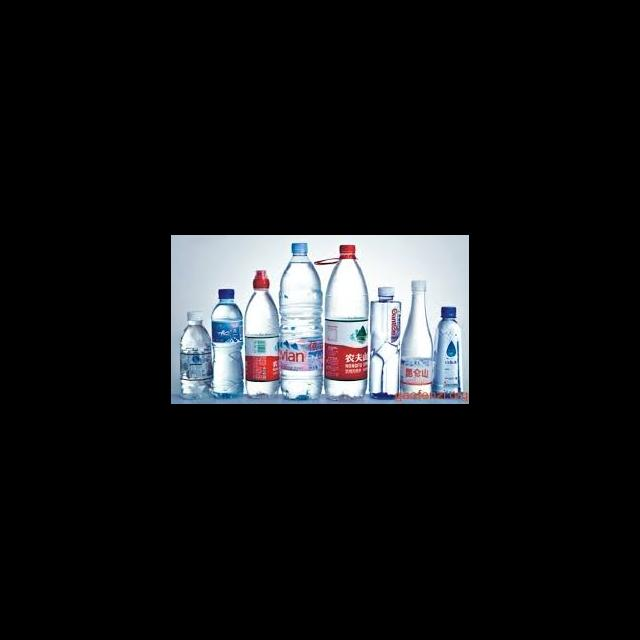plastic: (278, 242, 323, 399), (324, 245, 368, 400), (243, 268, 279, 398), (399, 279, 433, 396), (210, 288, 244, 401), (369, 286, 400, 400), (178, 310, 211, 400), (323, 318, 368, 382), (431, 306, 462, 398), (244, 333, 279, 382), (279, 332, 321, 372), (179, 346, 212, 382), (400, 356, 431, 384), (211, 317, 243, 343), (252, 268, 268, 290), (337, 244, 355, 258), (290, 242, 307, 254), (217, 288, 234, 300), (440, 306, 455, 318), (377, 286, 393, 296), (186, 310, 202, 320), (409, 280, 424, 290)
